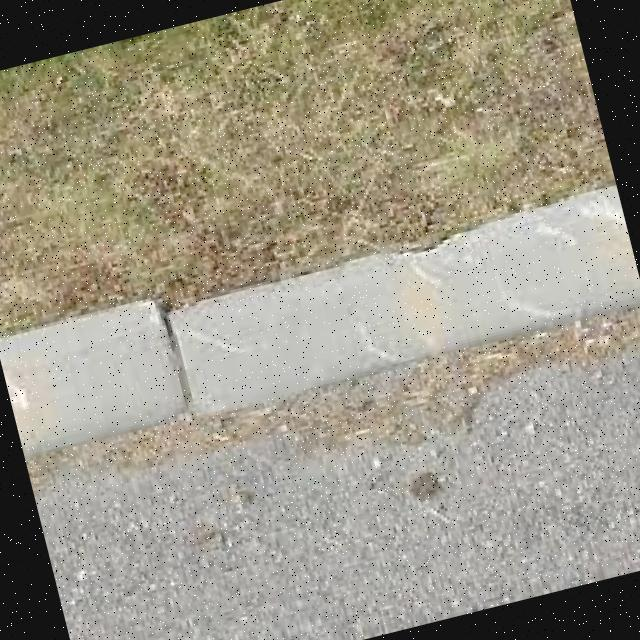curb: (1, 193, 640, 468)
